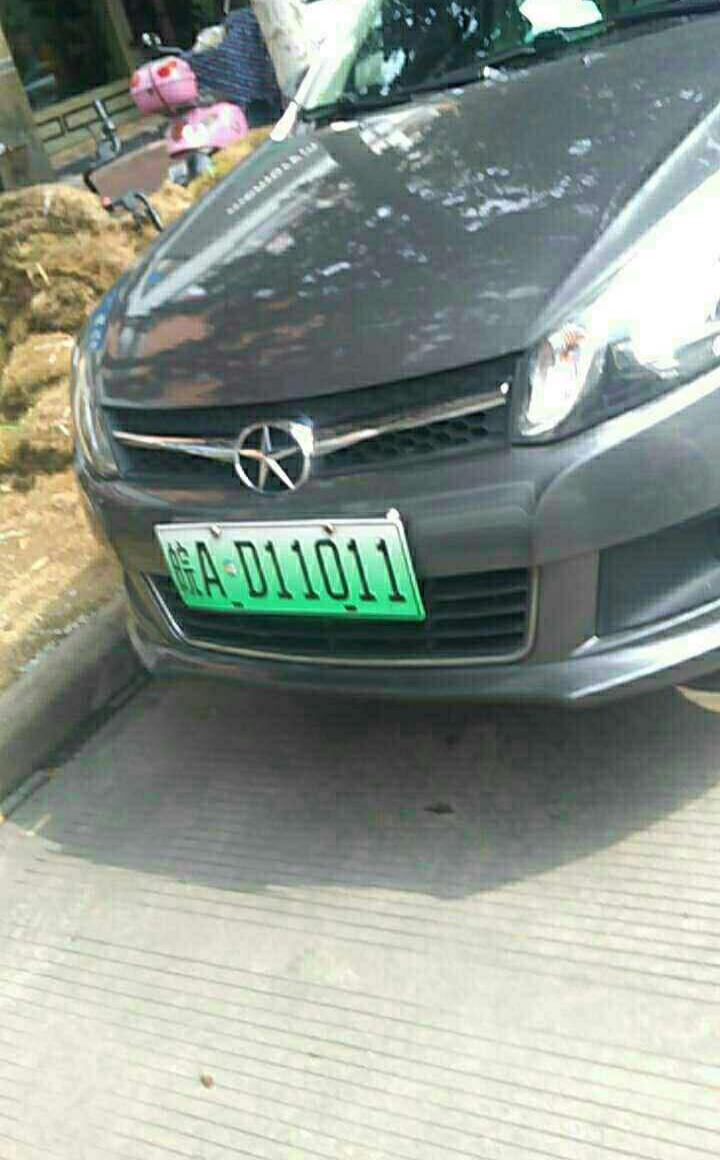car_id: (151, 522, 421, 615)
